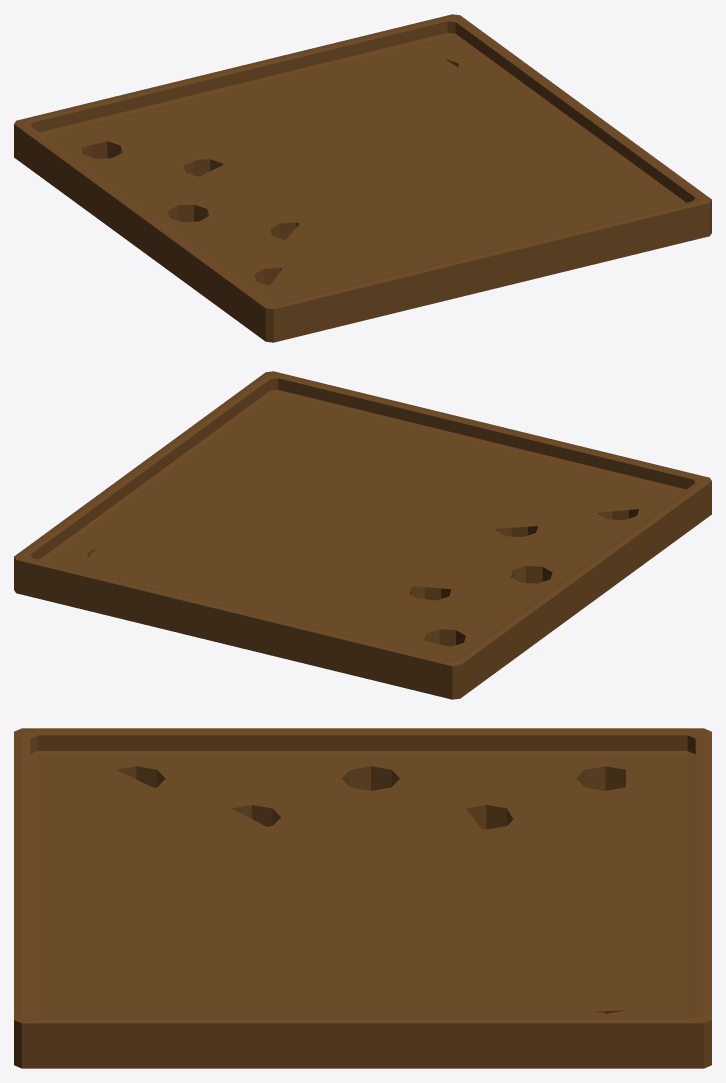
Rendered from Trap1_Alt.fbx.
The picture shows the model from 3 angles, top to bottom: view 1: azimuth 30°, elevation 25°; view 2: azimuth 150°, elevation 25°; view 3: azimuth 270°, elevation 25°; orthographic projection. The views are drawn at different scales.
Parts seen in each view (by area): view 1: Cube; view 2: Cube; view 3: Cube.
Boxes of the visible parts, x1,y1,x2,y2 form: Cube: [14, 14, 711, 342]; Cube: [14, 371, 711, 699]; Cube: [14, 728, 711, 1068].
Size of the model in its own units: 1 by 0.0732 by 1.
